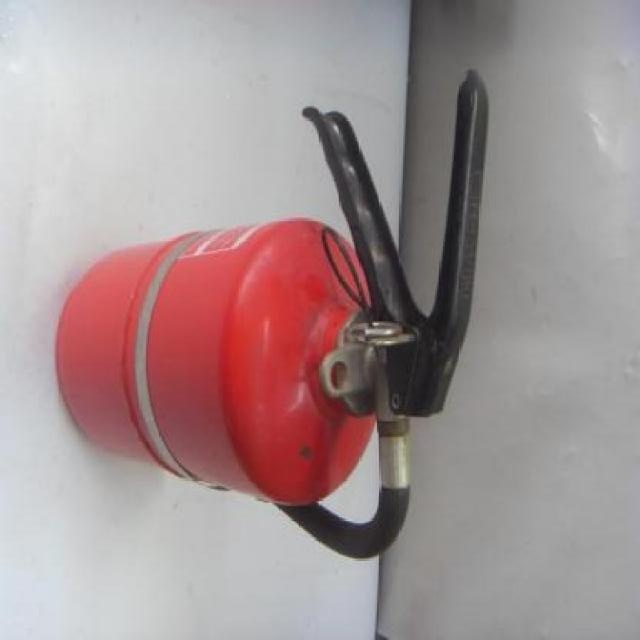fire extinguisher: (54, 69, 489, 560)
